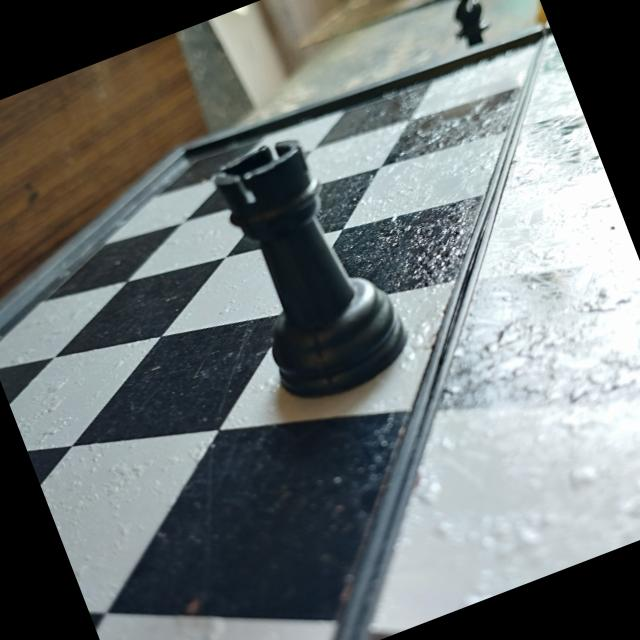Black Rook: (193, 115, 427, 421)
